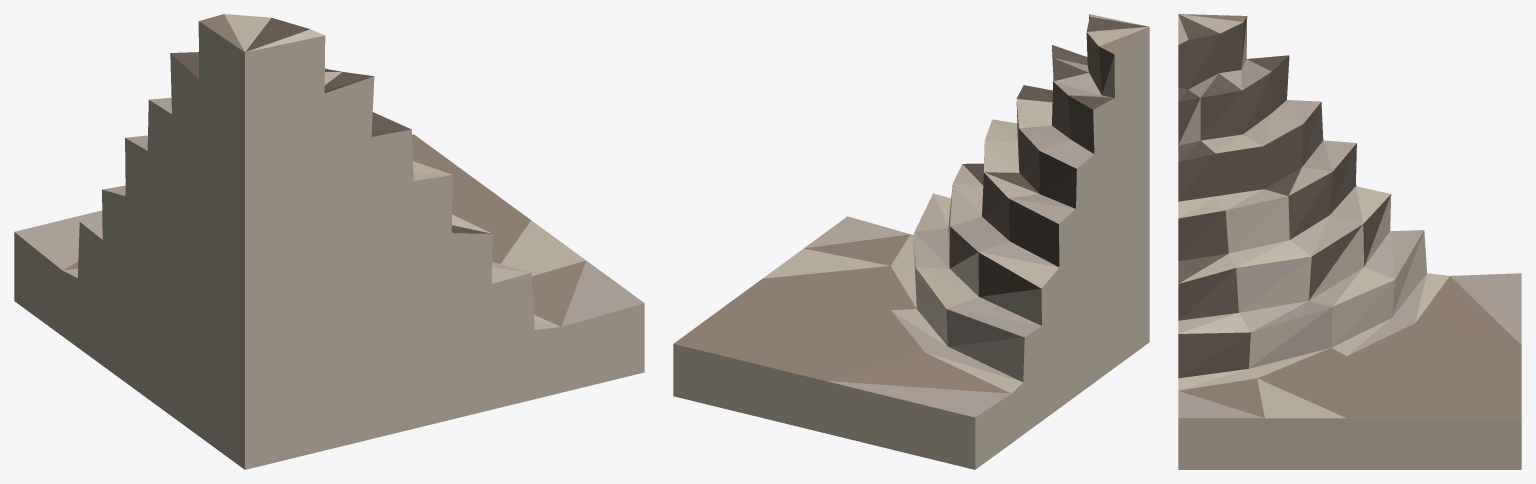
File: RG-Dungeon_Corner-Stairs-02.fbx
3 views of the same model, side by side, from view 1: azimuth 30°, elevation 25°; view 2: azimuth 150°, elevation 25°; view 3: azimuth 270°, elevation 25° (orthographic). The views are drawn at different scales.
Visible parts, largest first — view 1: RG-Dungeon_Corner-Stairs-02; view 2: RG-Dungeon_Corner-Stairs-02; view 3: RG-Dungeon_Corner-Stairs-02.
Boxes of the visible parts, box(x1,y1,x2,y2) form: RG-Dungeon_Corner-Stairs-02: box(14, 14, 644, 469); RG-Dungeon_Corner-Stairs-02: box(673, 14, 1149, 469); RG-Dungeon_Corner-Stairs-02: box(1178, 14, 1521, 469).
Size of the model in its own units: 10 by 10 by 10.
